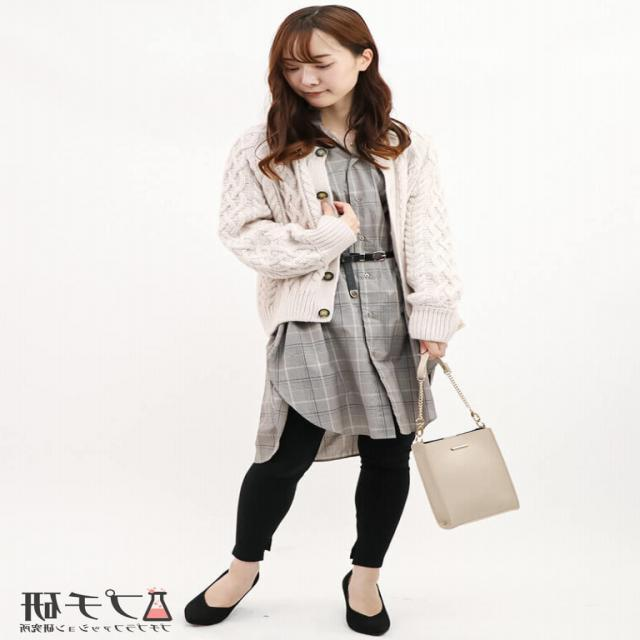direk: (179, 3, 466, 640)
